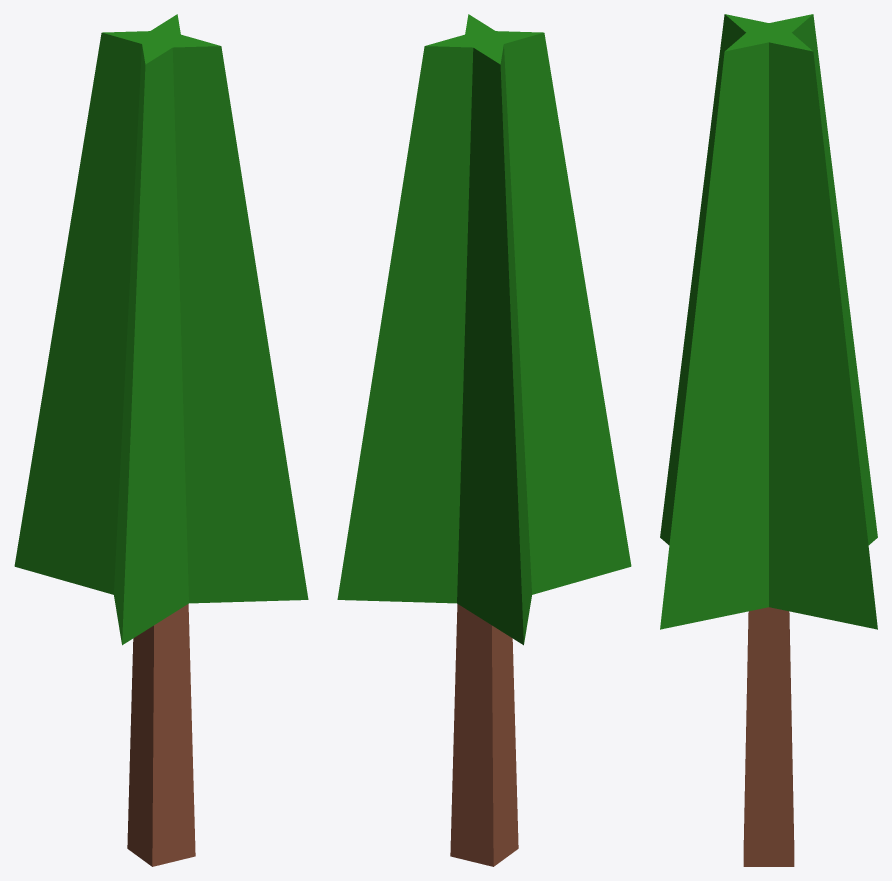
The model's file is Tree_27_summer_pal.fbx.
3 renders of one model, left to right at view 1: azimuth 30°, elevation 25°; view 2: azimuth 150°, elevation 25°; view 3: azimuth 270°, elevation 25°, orthographic.
Parts seen in each view (by area): view 1: Tree_27_summer_pal; view 2: Tree_27_summer_pal; view 3: Tree_27_summer_pal.
Boxes of the visible parts, bbox=[...] form: Tree_27_summer_pal: bbox=[14, 14, 308, 866]; Tree_27_summer_pal: bbox=[337, 14, 631, 866]; Tree_27_summer_pal: bbox=[660, 14, 877, 866].
Bounding box in the file's own units: 63.19 × 263 × 63.19.
